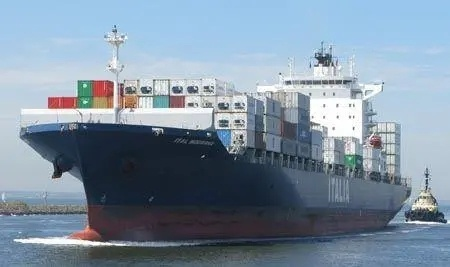Cargoship: (18, 21, 414, 242)
otherboat: (402, 174, 450, 224)
